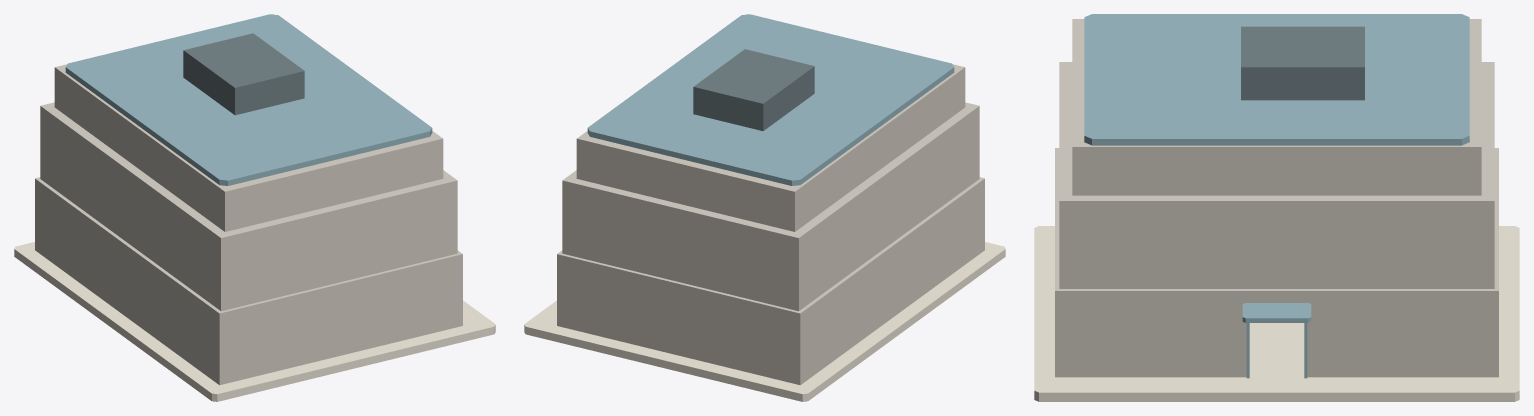
File: TerracedPods_10p8m_v4_ShadowProxy.glb
The picture shows the model from 3 angles, left to right: view 1: azimuth 30°, elevation 25°; view 2: azimuth 150°, elevation 25°; view 3: azimuth 270°, elevation 25°; orthographic projection. The views are drawn at different scales.
Visible parts, largest first — view 1: TerracedPods_10p8m_v4_ShadowProxy / Structure, TerracedPods_10p8m_v4_ShadowProxy / Roof, TerracedPods_10p8m_v4_ShadowProxy / Foundation; view 2: TerracedPods_10p8m_v4_ShadowProxy / Structure, TerracedPods_10p8m_v4_ShadowProxy / Roof, TerracedPods_10p8m_v4_ShadowProxy / Foundation; view 3: TerracedPods_10p8m_v4_ShadowProxy / Structure, TerracedPods_10p8m_v4_ShadowProxy / Roof, TerracedPods_10p8m_v4_ShadowProxy / Foundation, TerracedPods_10p8m_v4_ShadowProxy / Entrance modules.
Boxes of the visible parts, x1,y1,x2,y2 form: TerracedPods_10p8m_v4_ShadowProxy / Structure: (35,14,462,385); TerracedPods_10p8m_v4_ShadowProxy / Roof: (65,14,432,185); TerracedPods_10p8m_v4_ShadowProxy / Foundation: (14,242,495,401); TerracedPods_10p8m_v4_ShadowProxy / Structure: (557,14,984,385); TerracedPods_10p8m_v4_ShadowProxy / Roof: (587,14,954,185); TerracedPods_10p8m_v4_ShadowProxy / Foundation: (524,242,1005,401); TerracedPods_10p8m_v4_ShadowProxy / Structure: (1055,19,1498,377); TerracedPods_10p8m_v4_ShadowProxy / Roof: (1084,14,1469,145); TerracedPods_10p8m_v4_ShadowProxy / Foundation: (1034,226,1519,401); TerracedPods_10p8m_v4_ShadowProxy / Entrance modules: (1242,303,1311,396).
Size of the model in its own units: 13 by 9.88 by 16.
